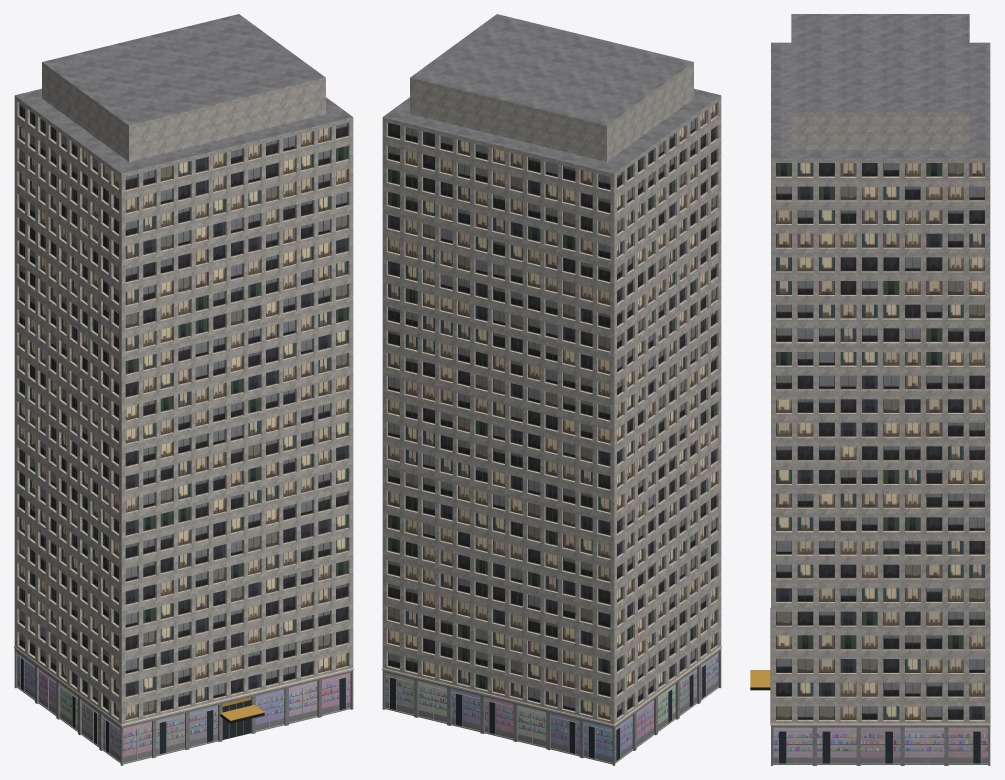
Rendered from hd17_precast_grid_office.gltf.
The picture shows the model from 3 angles, left to right: view 1: azimuth 30°, elevation 25°; view 2: azimuth 150°, elevation 25°; view 3: azimuth 270°, elevation 25°; orthographic projection. The views are drawn at different scales.
Parts seen in each view (by area): view 1: hd17_precast_grid_office_LOD0; view 2: hd17_precast_grid_office_LOD0; view 3: hd17_precast_grid_office_LOD0.
Part boxes in pixels (left/top/right/bottom): hd17_precast_grid_office_LOD0: left=14, top=14, right=353, bottom=765; hd17_precast_grid_office_LOD0: left=382, top=14, right=721, bottom=765; hd17_precast_grid_office_LOD0: left=750, top=14, right=990, bottom=765.
Size of what is drawn, in the model's own units: 40.12 by 104 by 35.08.
Materials: 11 (6 with a texture image).
